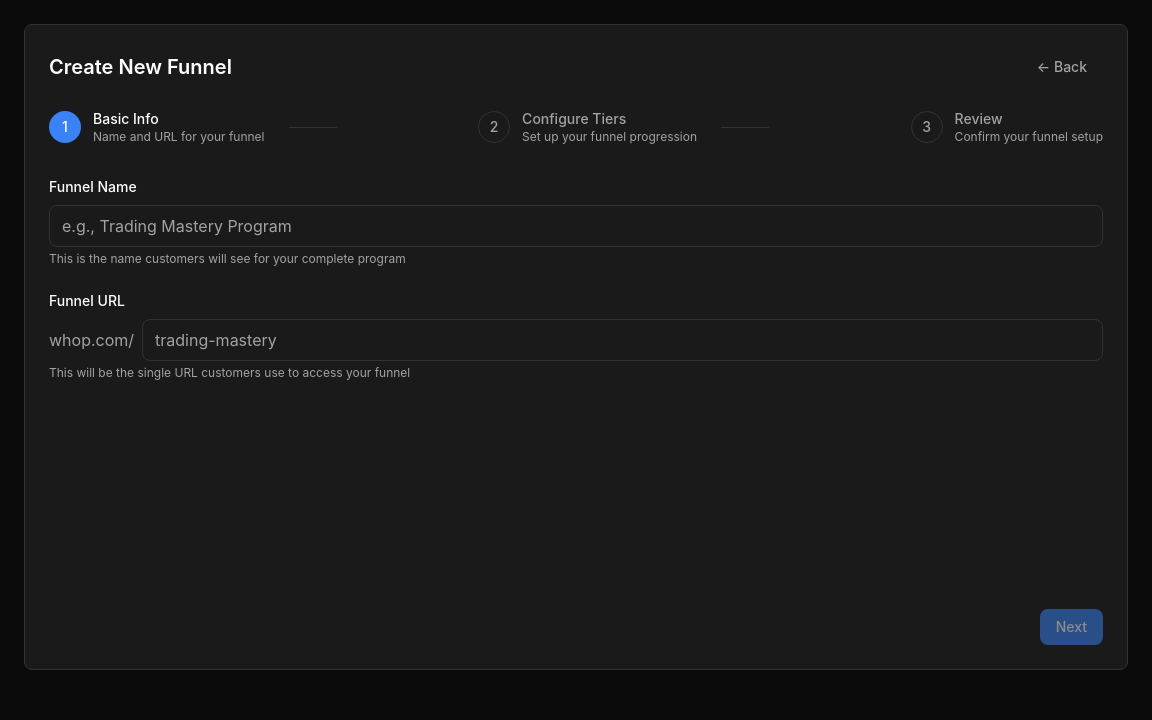
Test: FunnelWizard Component › auto-formats URL input
The image size is (1152, 720).
Type "Test Funnel With Spaces!@#" into the field with placeholder "trading-mastery" at (623, 340), box [142, 319, 1103, 361]
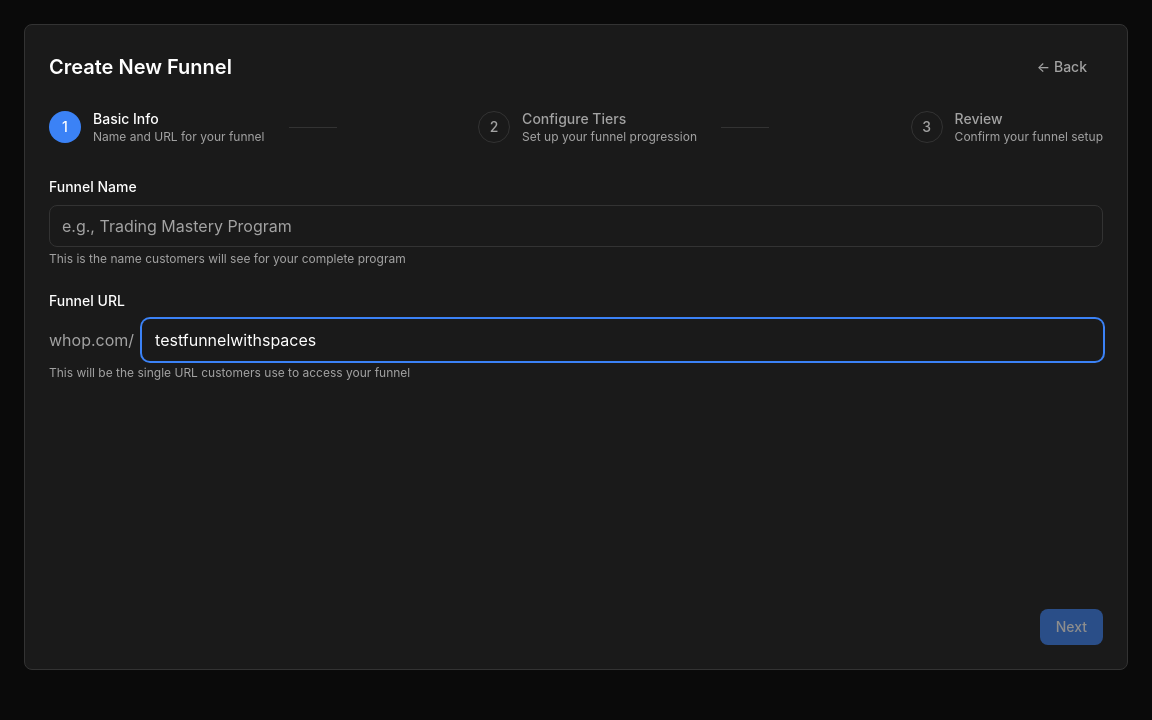
Check: the field with placeholder "trading-mastery" holds "testfunnelwithspaces", box [142, 319, 1103, 361]
